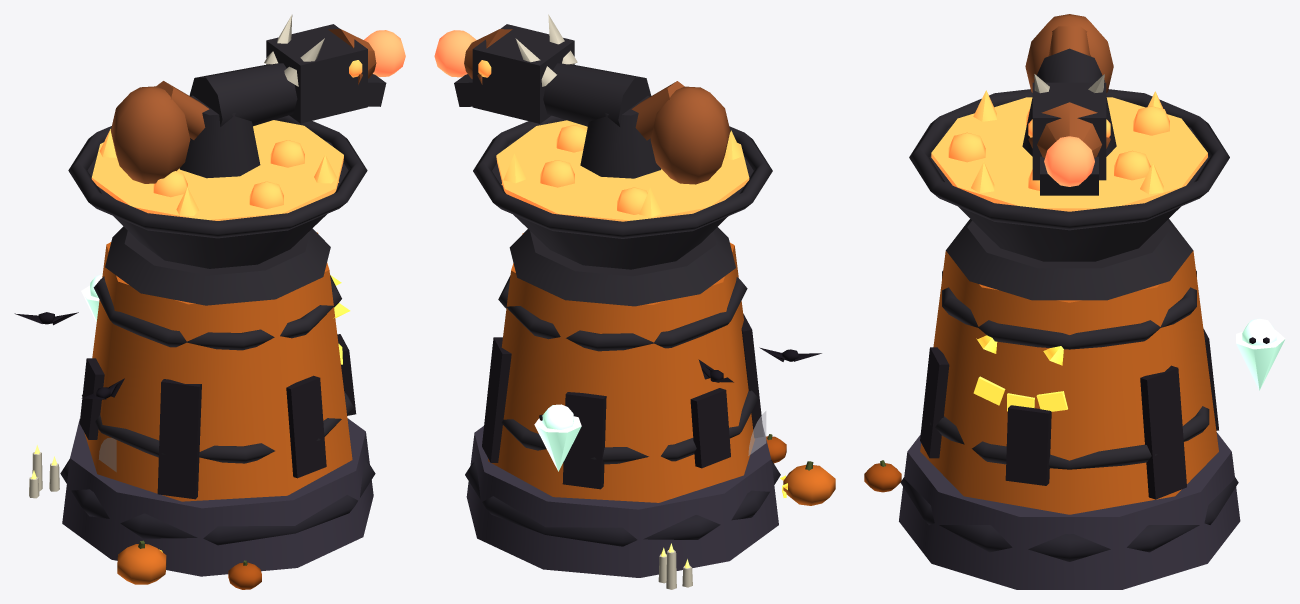
Rendered from tower_flame_inferno.glb.
3 renders of one model, left to right at view 1: azimuth 30°, elevation 25°; view 2: azimuth 150°, elevation 25°; view 3: azimuth 270°, elevation 25°, orthographic. The views are drawn at different scales.
Visible parts, largest first — view 1: body, base, coals, brazier_foot, brazier_lip, dragon_head, gas_tank, brazier_bowl, soot_2, neck, soot_ring, nozzle_post (+14 smaller); view 2: body, base, coals, brazier_foot, brazier_lip, dragon_head, gas_tank, brazier_bowl, neck, soot_ring, nozzle_post, body_band_0.3 (+15 smaller); view 3: body, base, coals, brazier_foot, brazier_lip, brazier_bowl, soot_5, body_band_0.3, soot_ring, soot_0, dragon_head, body_band_0.15 (+14 smaller).
Boxes of the visible parts, x1=… form: body: x1=84, y1=232, x2=352, y2=501; base: x1=62, y1=418, x2=373, y2=576; coals: x1=91, y1=120, x2=343, y2=220; brazier_foot: x1=105, y1=226, x2=330, y2=305; brazier_lip: x1=68, y1=115, x2=367, y2=238; dragon_head: x1=266, y1=24, x2=367, y2=123; gas_tank: x1=110, y1=86, x2=190, y2=183; brazier_bowl: x1=87, y1=140, x2=348, y2=268; soot_2: x1=157, y1=379, x2=201, y2=499; neck: x1=189, y1=63, x2=297, y2=126; soot_ring: x1=60, y1=459, x2=375, y2=545; nozzle_post: x1=179, y1=95, x2=260, y2=178; body: x1=488, y1=233, x2=754, y2=502; base: x1=466, y1=426, x2=778, y2=577; coals: x1=496, y1=120, x2=749, y2=221; brazier_foot: x1=509, y1=227, x2=735, y2=306; brazier_lip: x1=473, y1=115, x2=772, y2=238; dragon_head: x1=472, y1=24, x2=574, y2=123; gas_tank: x1=650, y1=86, x2=730, y2=184; brazier_bowl: x1=492, y1=140, x2=753, y2=269; neck: x1=543, y1=63, x2=651, y2=126; soot_ring: x1=465, y1=460, x2=780, y2=546; nozzle_post: x1=580, y1=96, x2=661, y2=178; body_band_0.3: x1=498, y1=275, x2=747, y2=351; body: x1=920, y1=250, x2=1218, y2=514; base: x1=899, y1=432, x2=1240, y2=589; coals: x1=931, y1=97, x2=1207, y2=211; brazier_foot: x1=946, y1=219, x2=1193, y2=300; brazier_lip: x1=909, y1=89, x2=1229, y2=230; brazier_bowl: x1=929, y1=127, x2=1209, y2=261; soot_5: x1=1140, y1=365, x2=1186, y2=499; body_band_0.3: x1=942, y1=270, x2=1196, y2=349; soot_ring: x1=900, y1=477, x2=1238, y2=561; soot_0: x1=1005, y1=405, x2=1051, y2=485; dragon_head: x1=1032, y1=82, x2=1106, y2=180; body_band_0.15: x1=930, y1=406, x2=1209, y2=469.
Size of the model in its own units: 0.5129 by 0.6397 by 0.4934.
